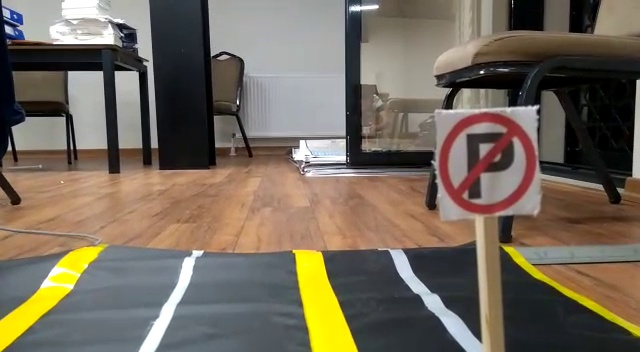park_yapilmaz: (432, 106, 544, 218)
